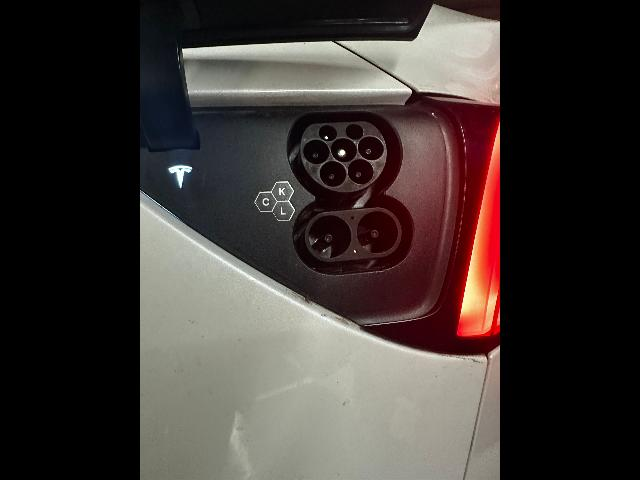inlet: (300, 121, 387, 192)
inlet-above-left: (319, 125, 337, 141)
inlet-above-right: (346, 124, 364, 139)
inlet-below-left: (320, 161, 347, 187)
inlet-below-right: (348, 159, 374, 184)
inlet-circle: (331, 138, 357, 162)
inlet-circle-left: (303, 139, 330, 164)
inlet-circle-right: (357, 136, 384, 160)
inlet-minus: (357, 211, 398, 253)
inlet-plus: (309, 215, 352, 258)
